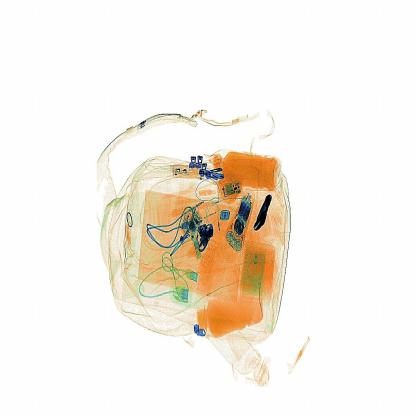knife: (251, 187, 280, 239)
